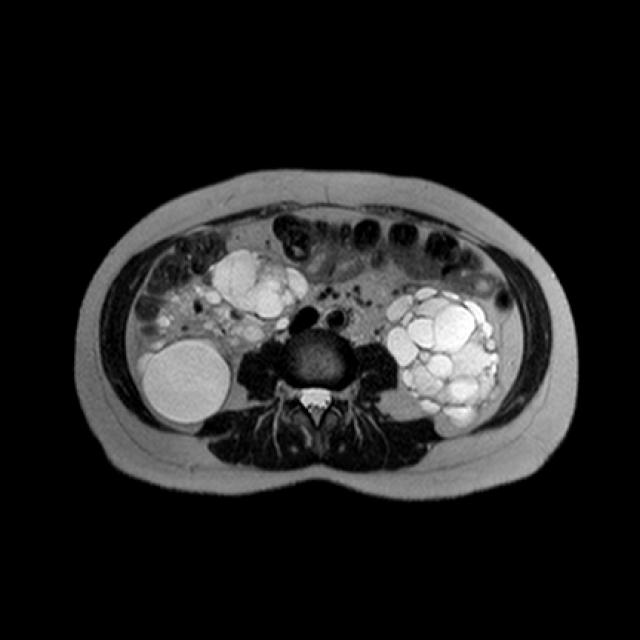sag: (137, 251, 306, 424)
sol: (383, 287, 501, 429)
